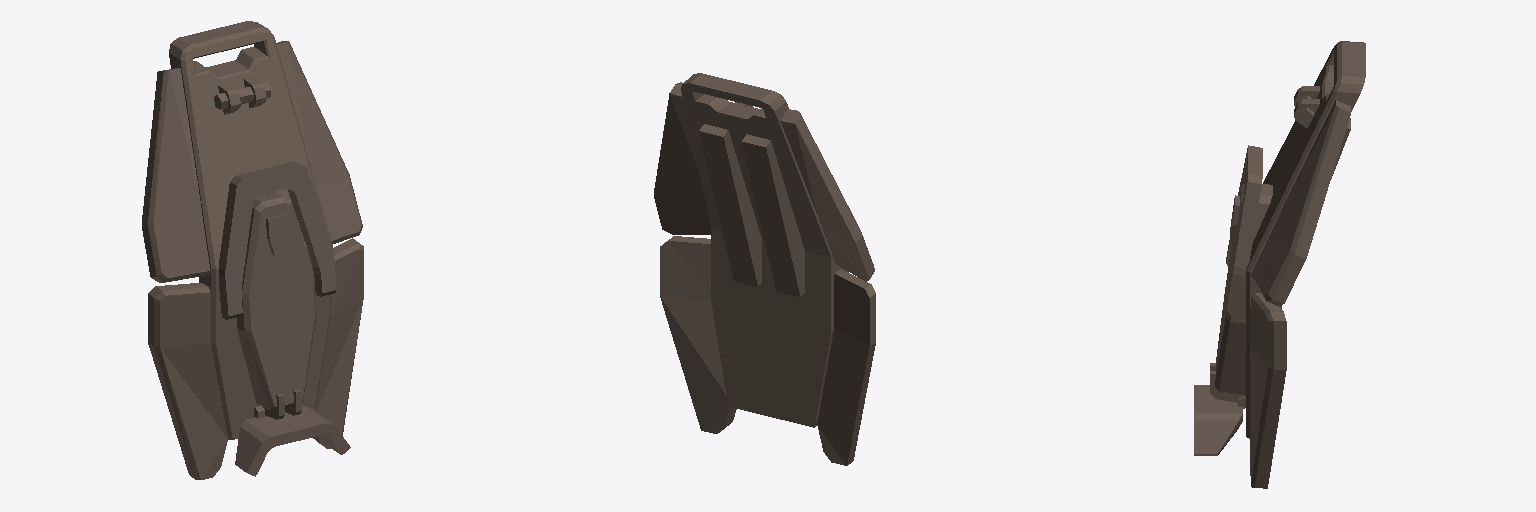
File: part_shield.obj
The picture shows the model from 3 angles: view 1: azimuth 30°, elevation 25°; view 2: azimuth 150°, elevation 25°; view 3: azimuth 270°, elevation 25°; orthographic projection.
Parts seen in each view (by area): view 1: EvilRoboShield-L_Sphere.000; view 2: EvilRoboShield-L_Sphere.000; view 3: EvilRoboShield-L_Sphere.000.
Part boxes in pixels (bbox=[...]): EvilRoboShield-L_Sphere.000: bbox=[142, 21, 363, 479]; EvilRoboShield-L_Sphere.000: bbox=[654, 73, 875, 465]; EvilRoboShield-L_Sphere.000: bbox=[1194, 41, 1365, 488].
Bounding box in the file's own units: 1.16 × 2.09 × 0.8218.